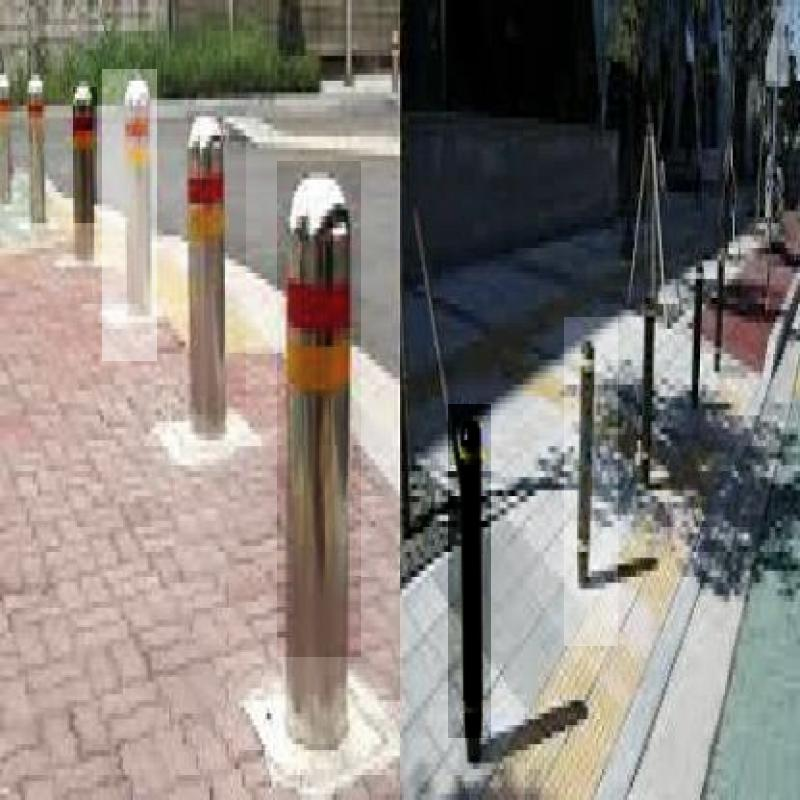bolard: (277, 161, 361, 657), (187, 112, 246, 434), (564, 317, 618, 646), (102, 69, 157, 361), (448, 404, 491, 738), (27, 69, 49, 237), (73, 87, 97, 223), (642, 298, 657, 509)
